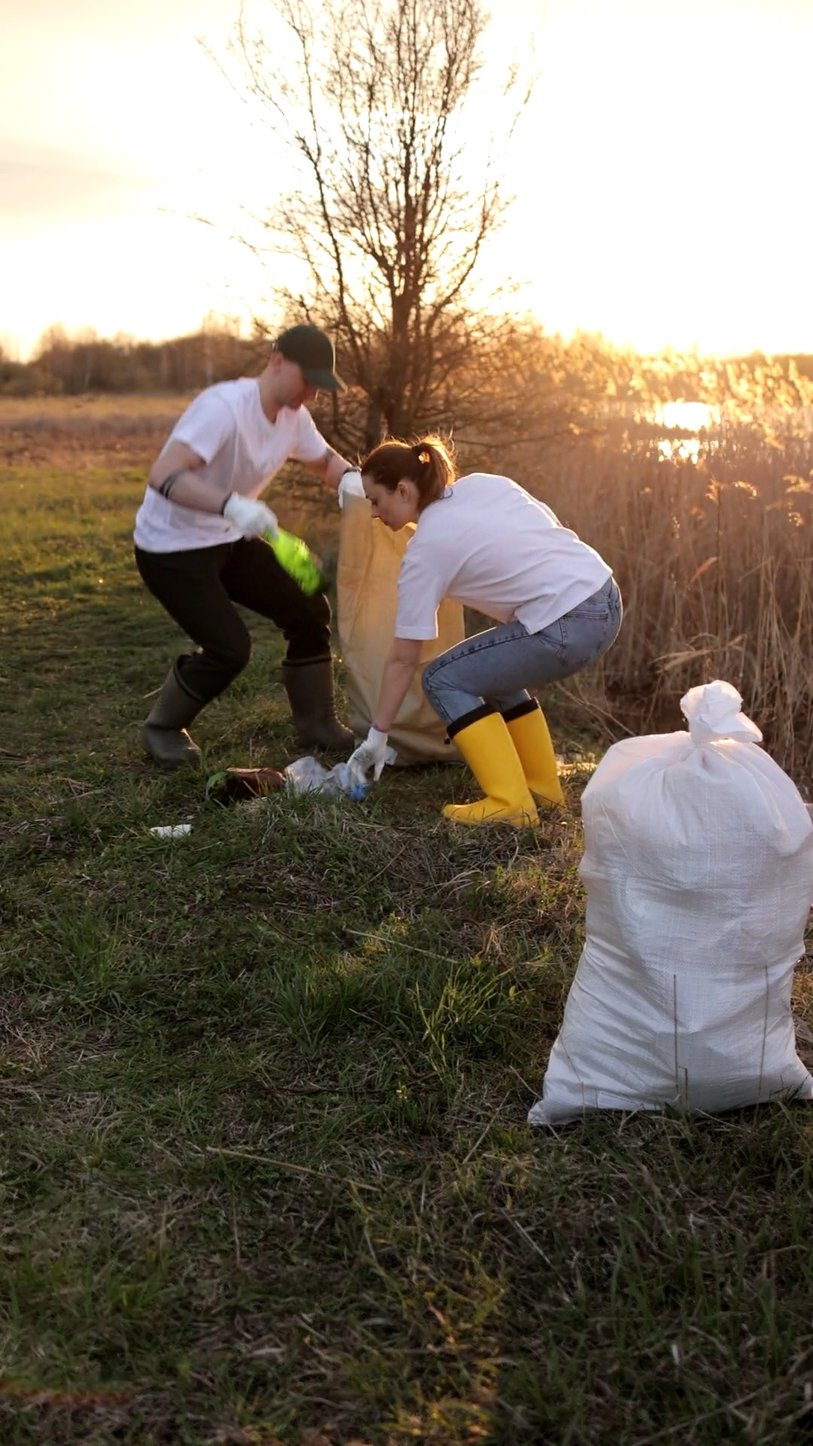gloves: (224, 484, 279, 555), (349, 718, 399, 788), (331, 457, 371, 524)
